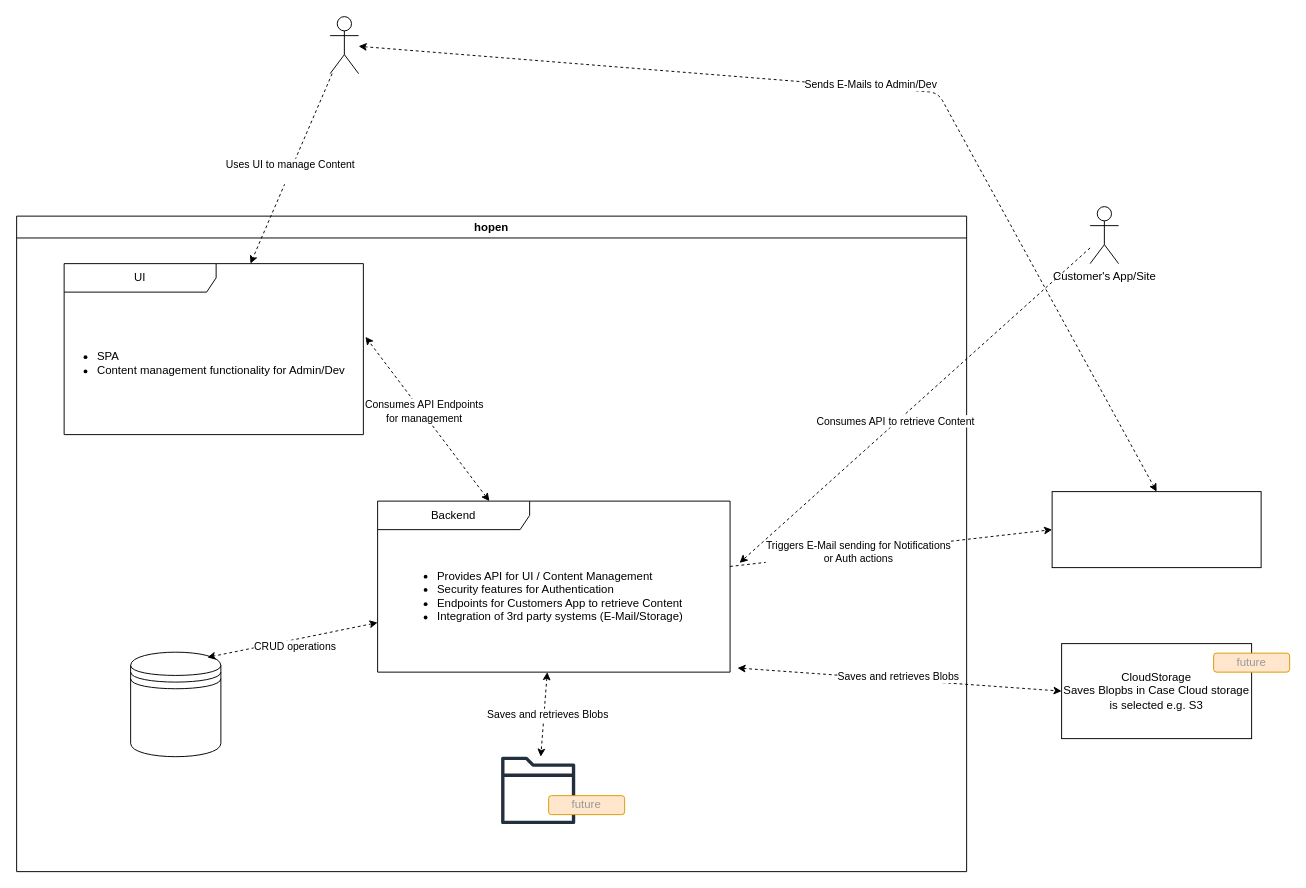
The diagram is 1306 pixels wide and 888 high, and some of its shapes have lost their labels. The centre of each missing label's shape, as x and y in pixels:
"Dev/Site-Admin" goes at point (344, 45).
"E-Mail Provider" goes at point (1156, 529).
"Local Storage Saves Blobs if no Cloud Storage selected" goes at point (538, 790).
"Stores simple Content Types and Content, Userdata" goes at point (175, 704).
